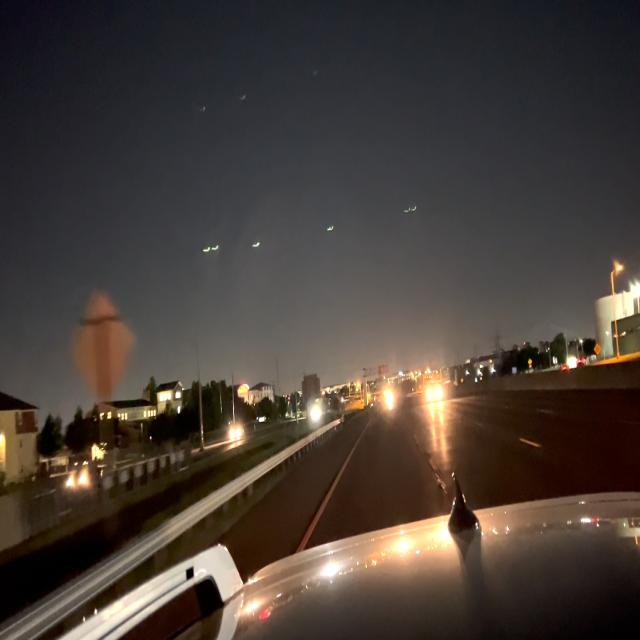back-of-sign: (70, 288, 133, 401)
